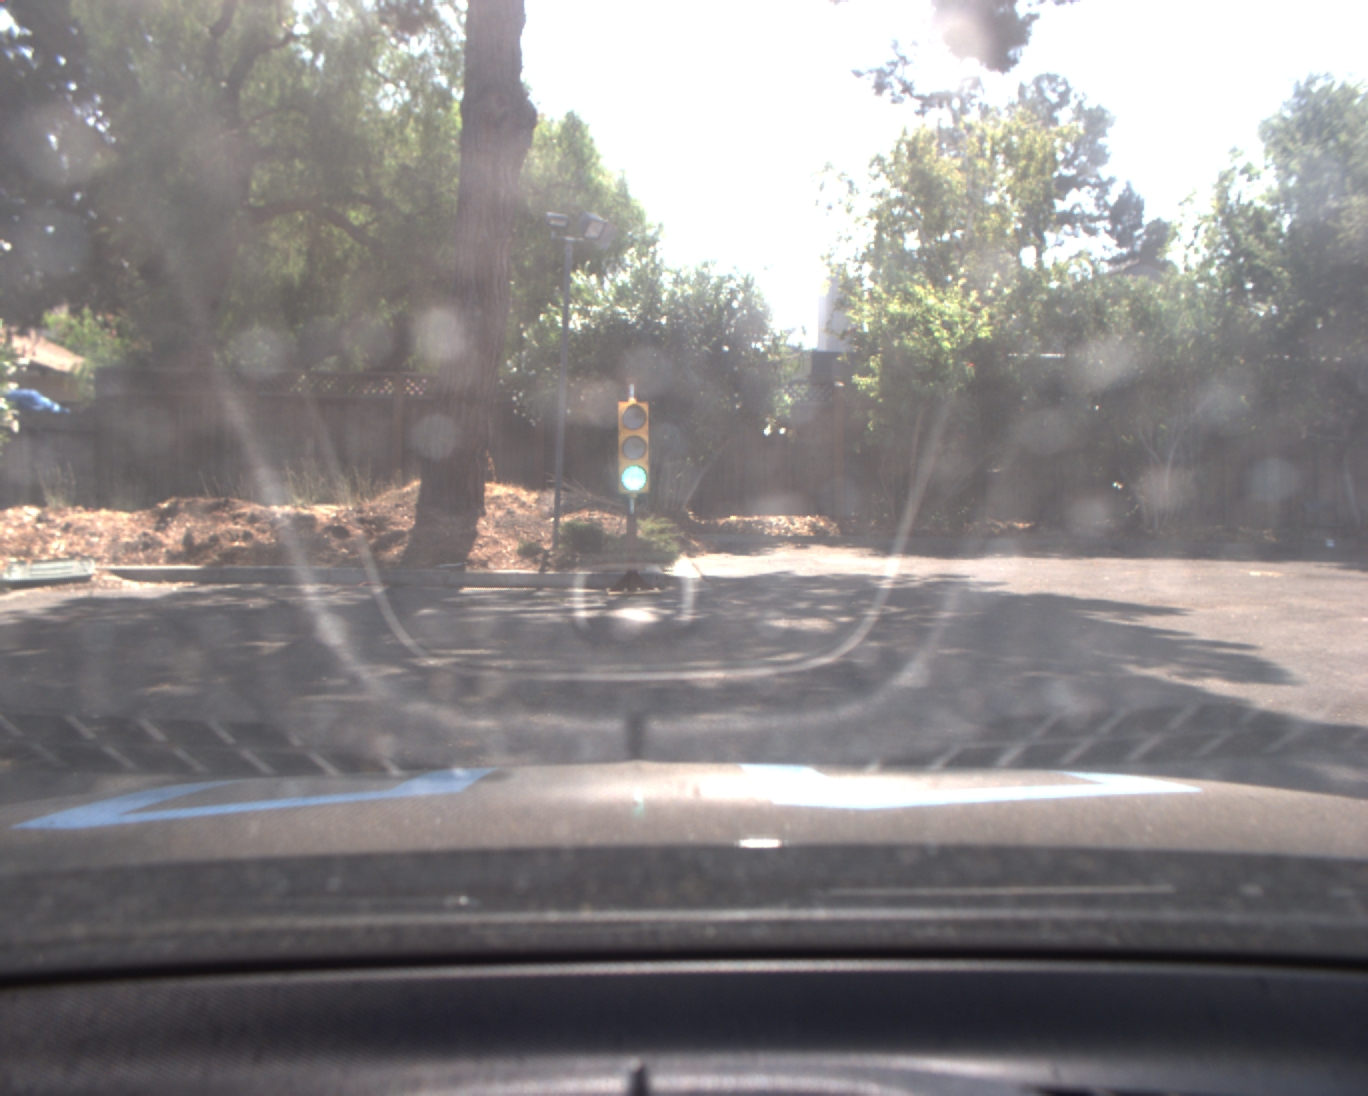green: (613, 402, 653, 497)
